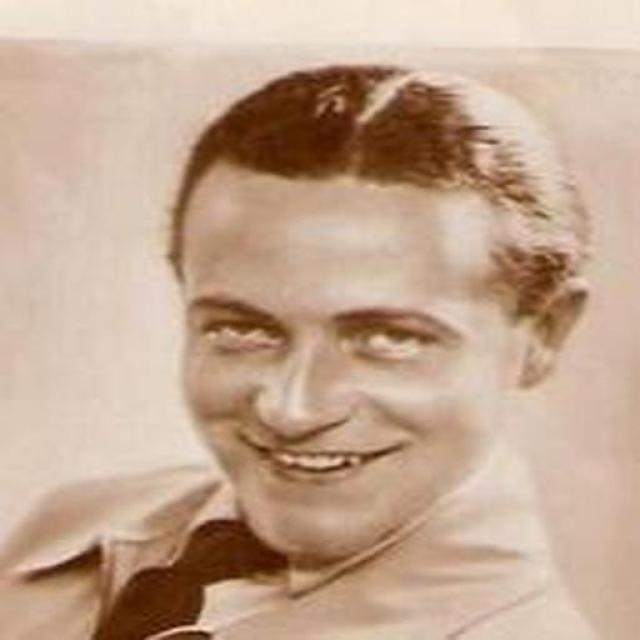bareface: (156, 108, 564, 540)
